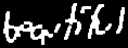beautiful: (0, 0, 128, 48)
